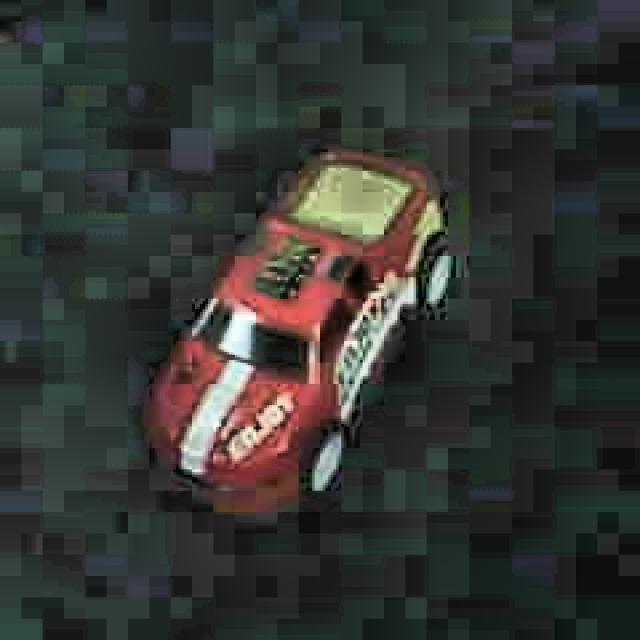car: (142, 145, 460, 522)
